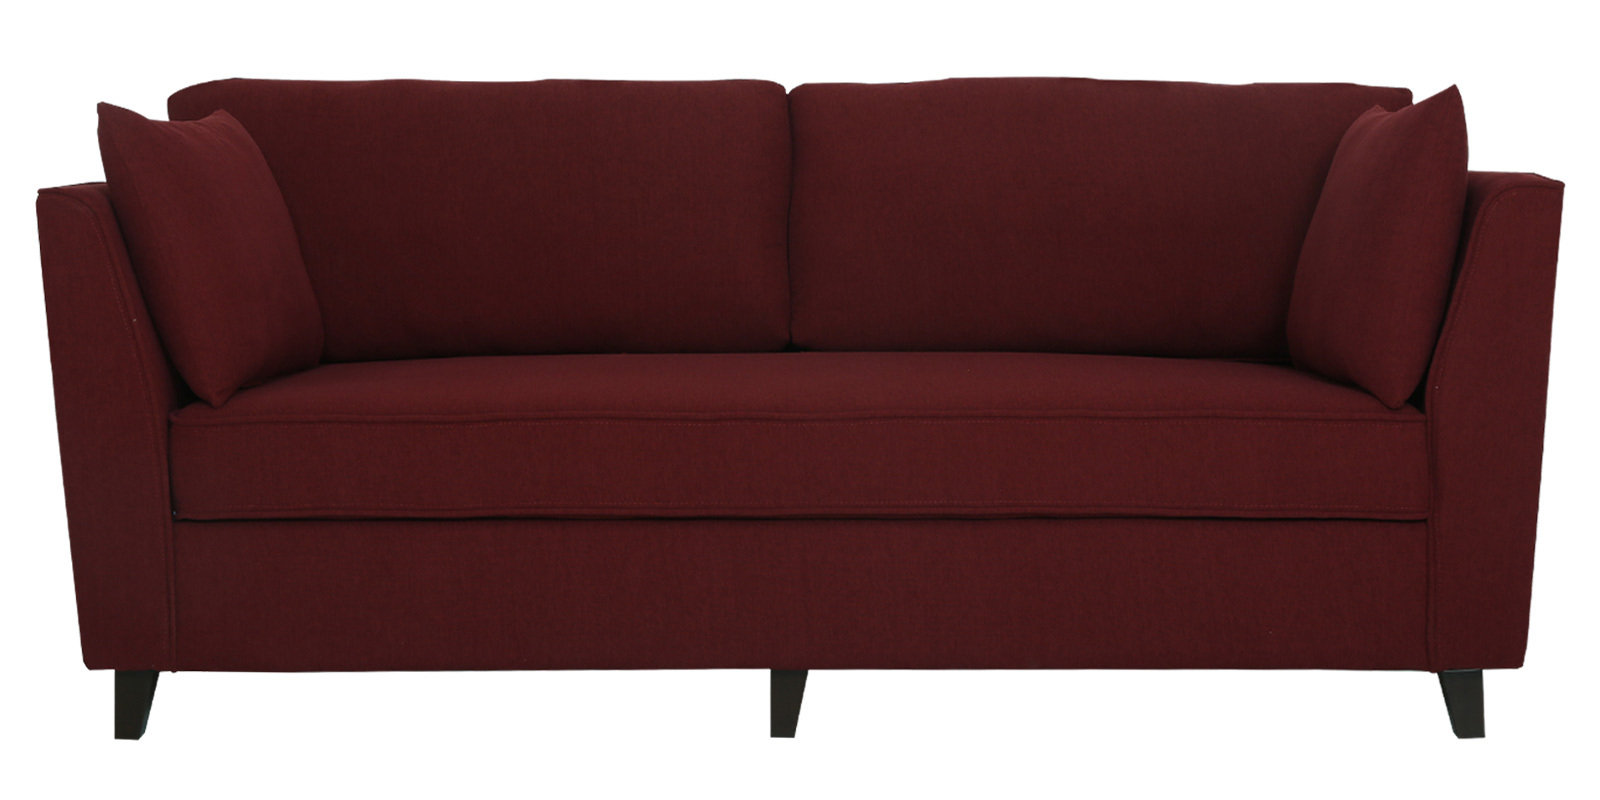Miranda Three Seater Sofa in Garnet Red Colour by CasaCraft: (34, 78, 1570, 739)
